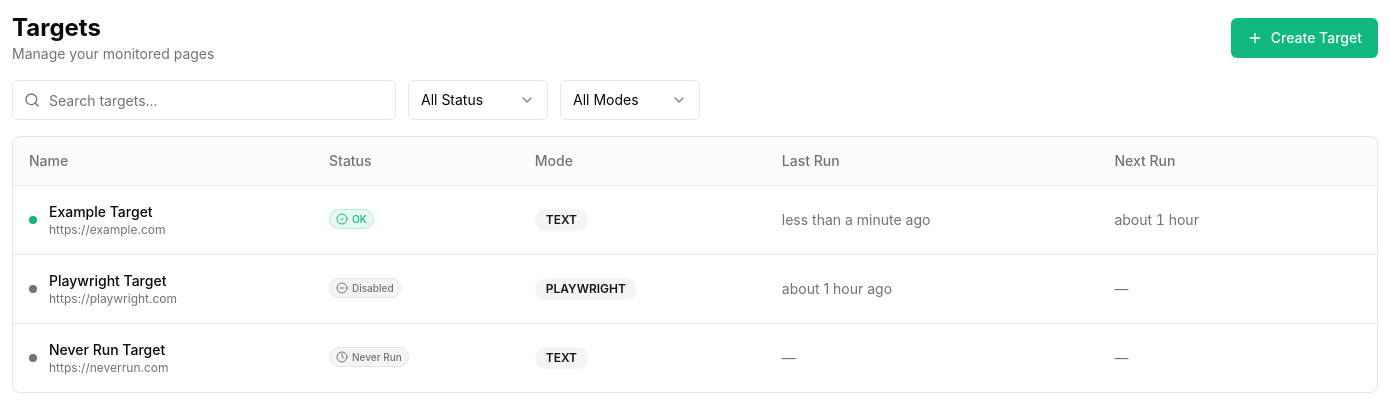
Test case: TargetsList › status and mode filters › should filter by enabled status
The image size is (1390, 410).
Expected: the text "Example Target" is shown, [49,202,166,222]
# Find and click status filter
Click the dropdown labelled "All Status" at coordinates (478, 100), box [408,80,548,120]
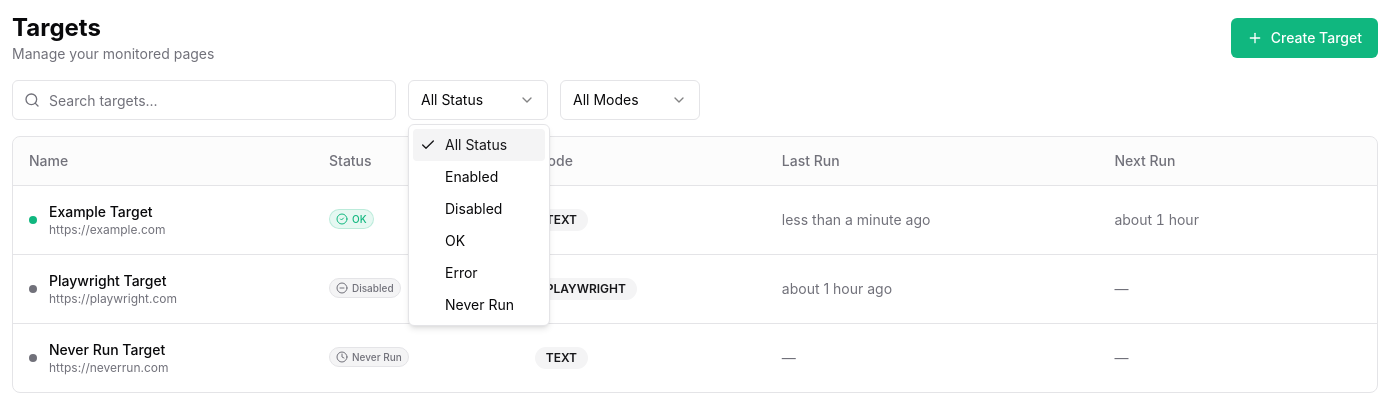
Expected: the option "Enabled" is shown
Click the option "Enabled" at coordinates (472, 176), box [445,168,498,185]
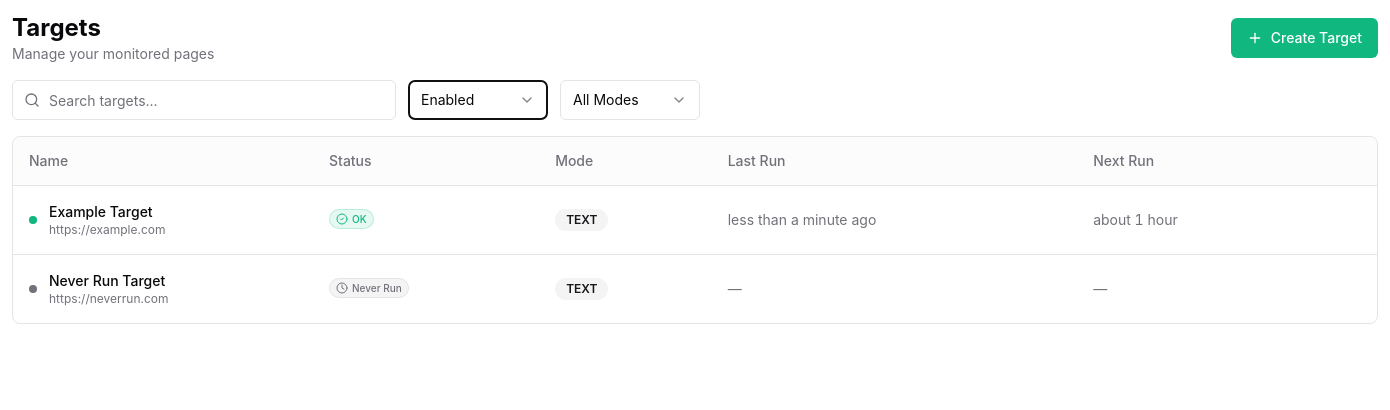
Expected: the text "Example Target" is shown, [49,202,166,222]
Expected: the text "Playwright Target" is gone
